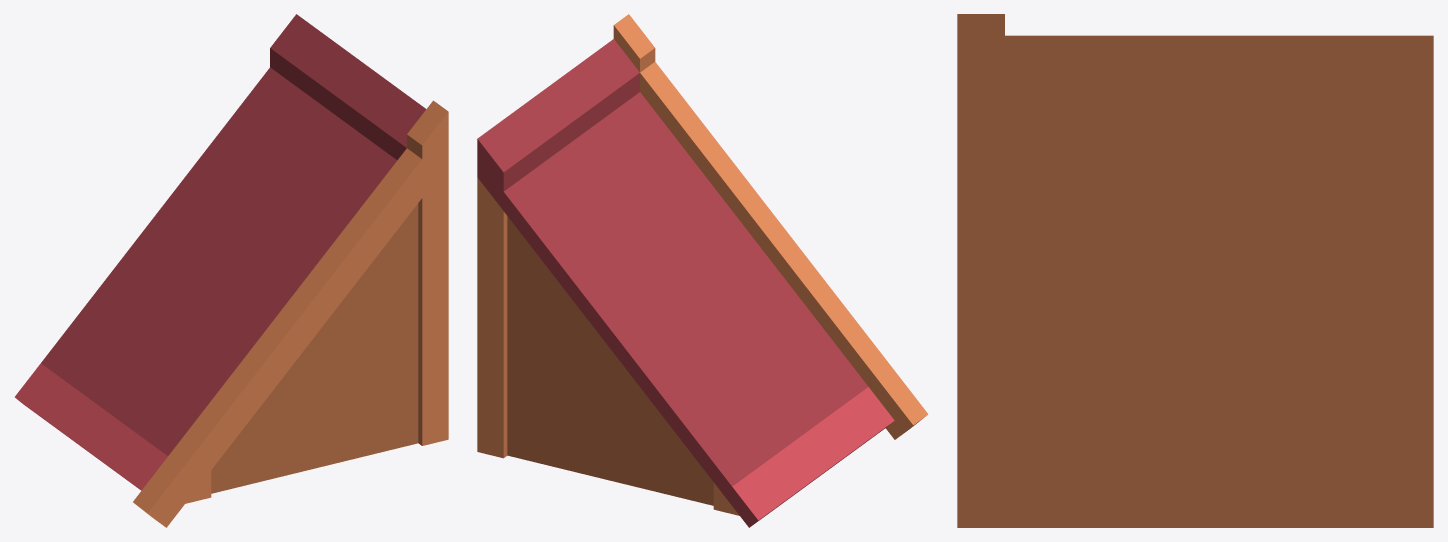
The model's file is roofHighRight.fbx.
3 renders of one model, left to right at view 1: azimuth 30°, elevation 25°; view 2: azimuth 150°, elevation 25°; view 3: azimuth 270°, elevation 25°, orthographic. The views are drawn at different scales.
Parts seen in each view (by area): view 1: roofHighRight; view 2: roofHighRight; view 3: roofHighRight.
Boxes of the visible parts, x1,y1,x2,y2 form: roofHighRight: (15,14,448,527); roofHighRight: (477,14,928,527); roofHighRight: (957,14,1433,527).
Bounding box in the file's own units: 11.41 × 12.61 × 10.
